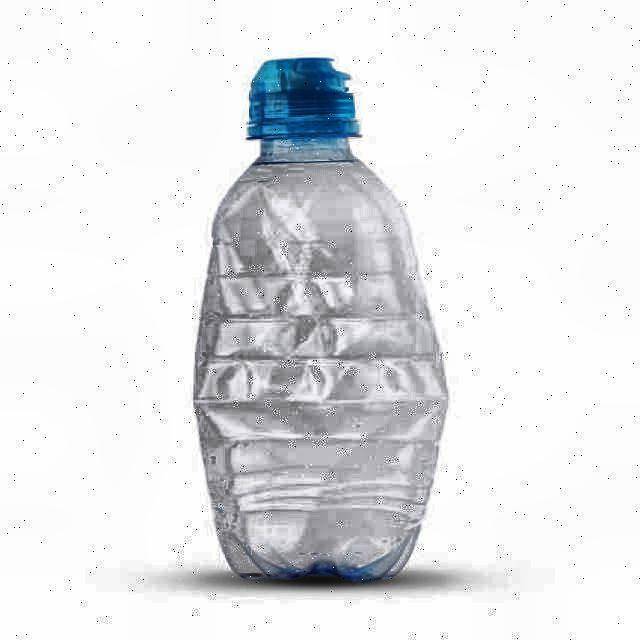plastic: (190, 56, 450, 584)
